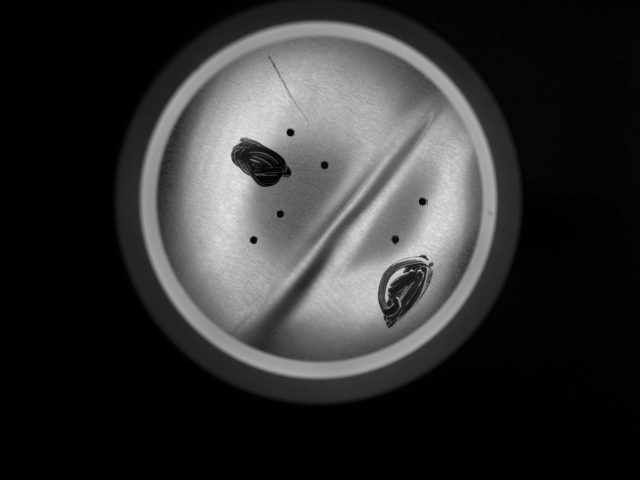ca_shang: (266, 51, 318, 126)
zang_wu: (375, 247, 444, 334), (226, 131, 293, 202)
zhe_zhou: (220, 95, 442, 343)
zhen_kong: (267, 202, 296, 227), (383, 227, 410, 253), (244, 227, 269, 254), (312, 155, 339, 177), (412, 192, 436, 215), (280, 123, 302, 143)
